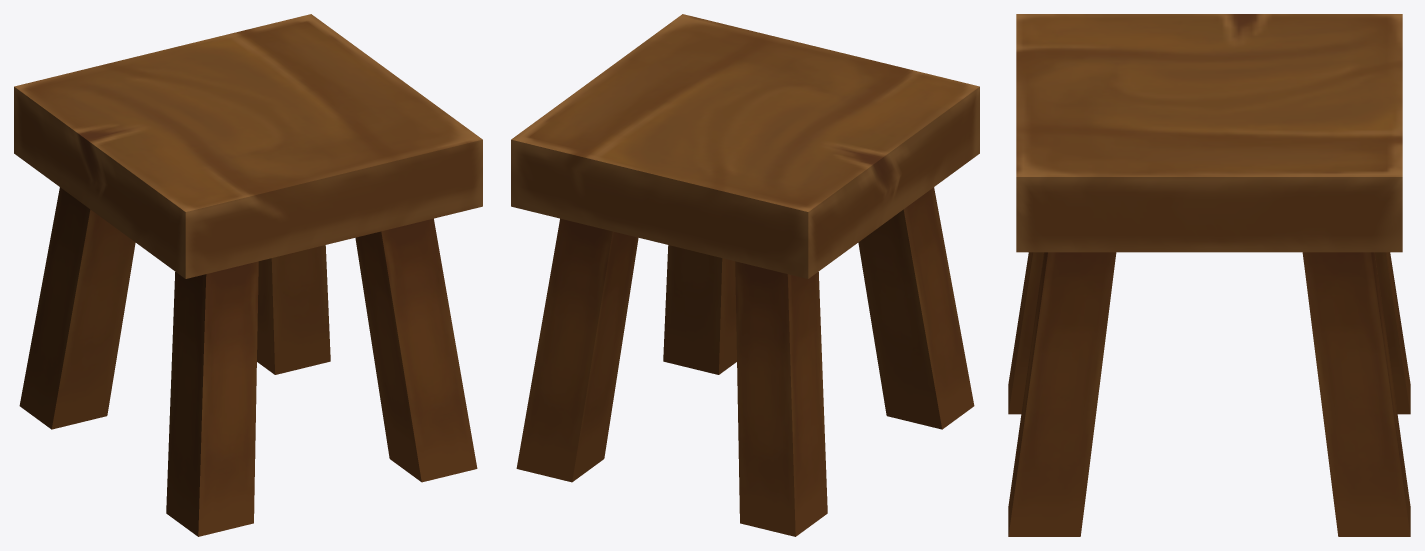
File: Chair_sqare.fbx
3 views of the same model, side by side, from view 1: azimuth 30°, elevation 25°; view 2: azimuth 150°, elevation 25°; view 3: azimuth 270°, elevation 25° (orthographic). The views are drawn at different scales.
Parts seen in each view (by area): view 1: polySurface355; view 2: polySurface355; view 3: polySurface355.
Boxes of the visible parts, x1=… form: polySurface355: x1=14, y1=14, x2=482, y2=536; polySurface355: x1=511, y1=14, x2=979, y2=536; polySurface355: x1=1008, y1=14, x2=1410, y2=536.
Size of the model in its own units: 0.6873 by 0.7167 by 0.7159.
